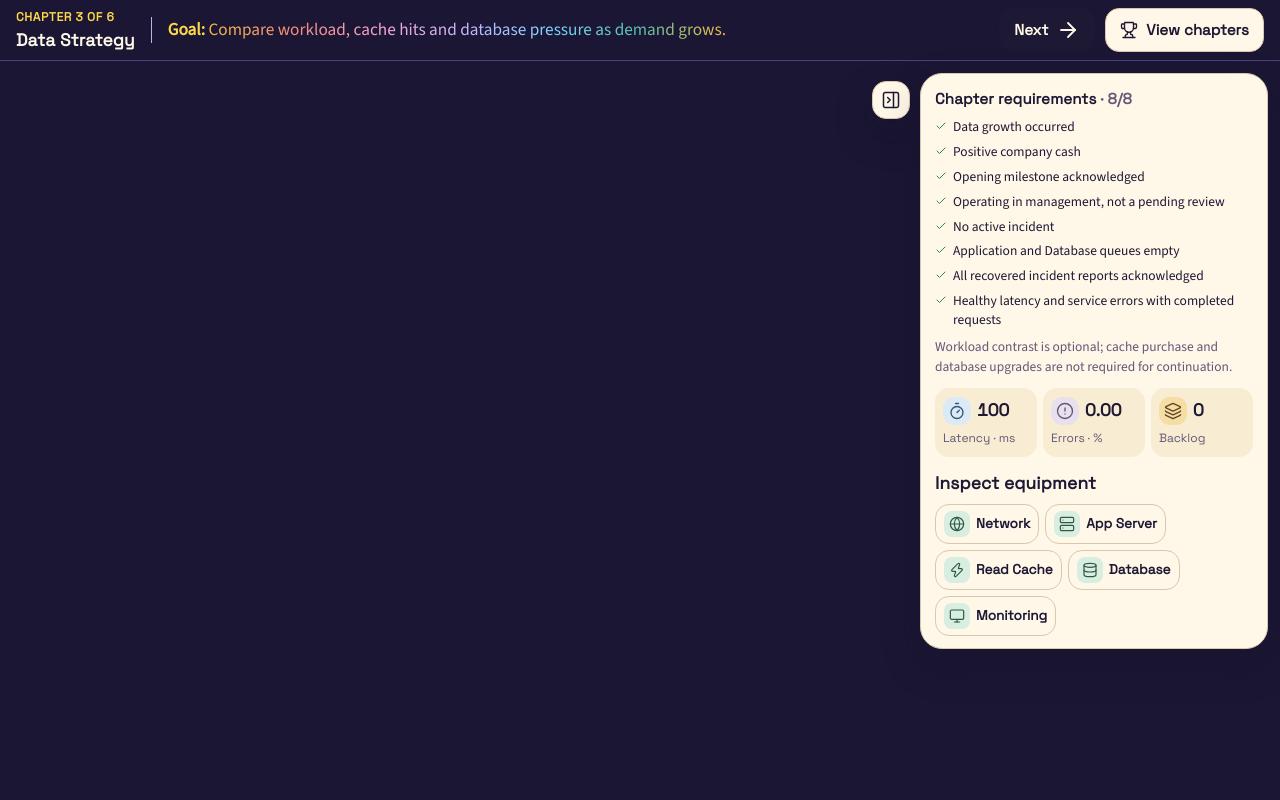
Test: labels the last completed profile separately from an immediate contrast
What coordinates should you click on to do the following:
click the button "Read Cache"
I would click on:
 (998, 570)
Its box is [935,550,1062,590].
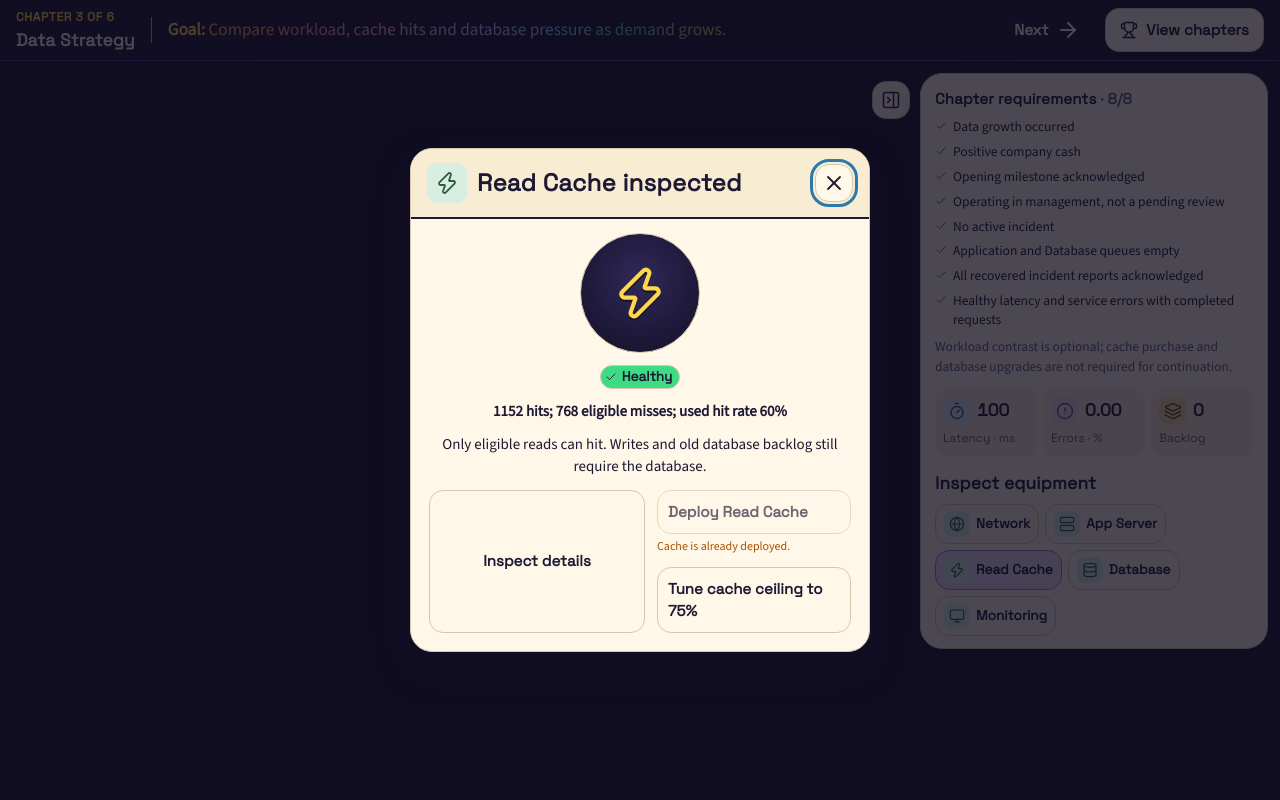
What coordinates should you click on to do the following:
click the button "Inspect details"
I would click on:
 (537, 561)
Its box is [429,490,645,633].
(page scrolled)
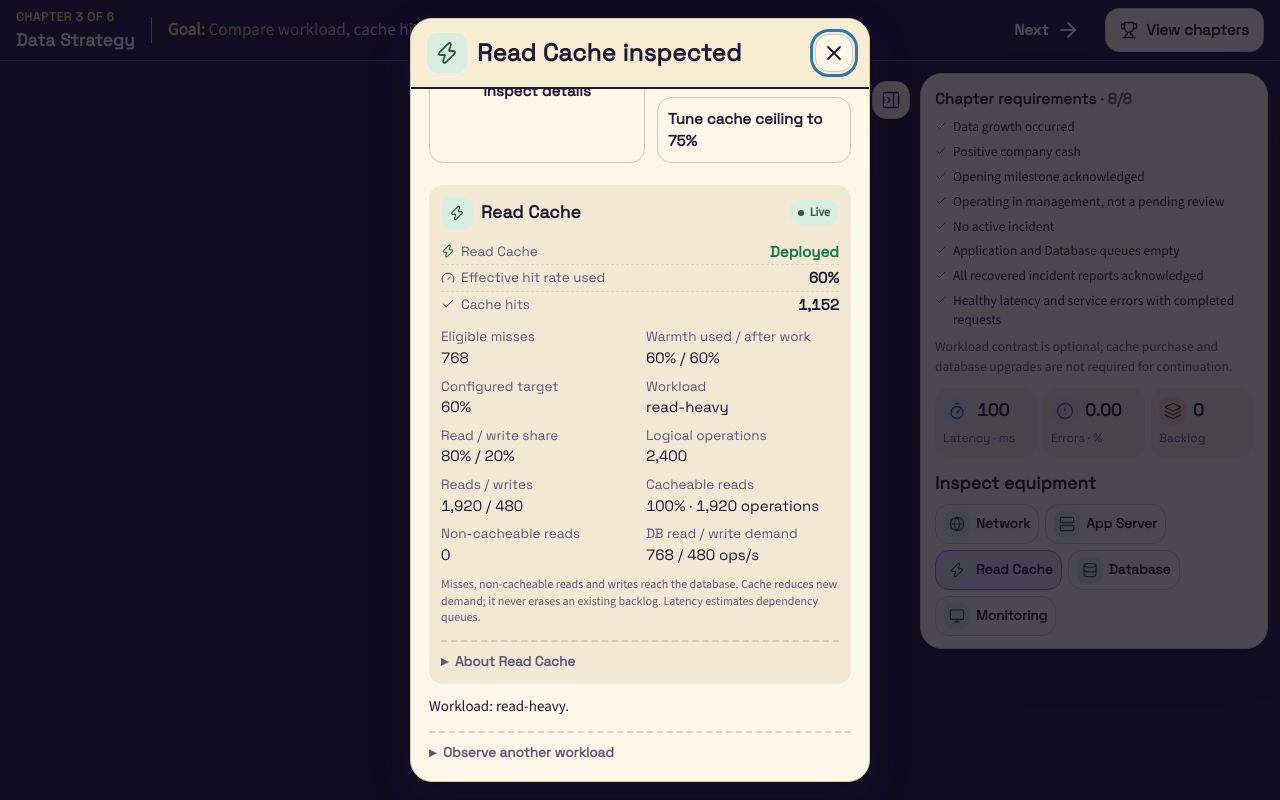
What coordinates should you click on to do the following:
click the heading "Observe another workload"
I would click on:
 (521, 753)
Its box is [429,744,614,763].
(page scrolled)
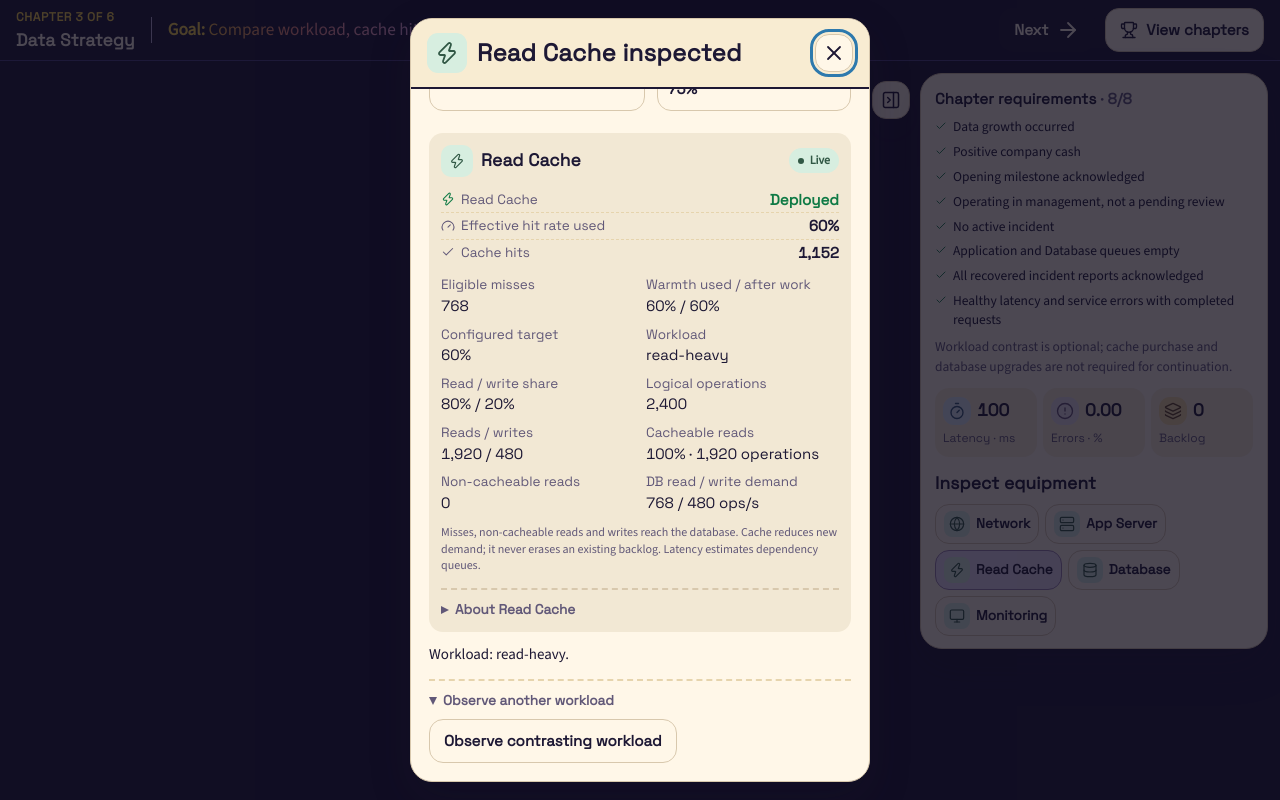
What coordinates should you click on to do the following:
click the button "Observe contrasting workload"
I would click on:
 (553, 741)
Its box is [429,719,677,763].
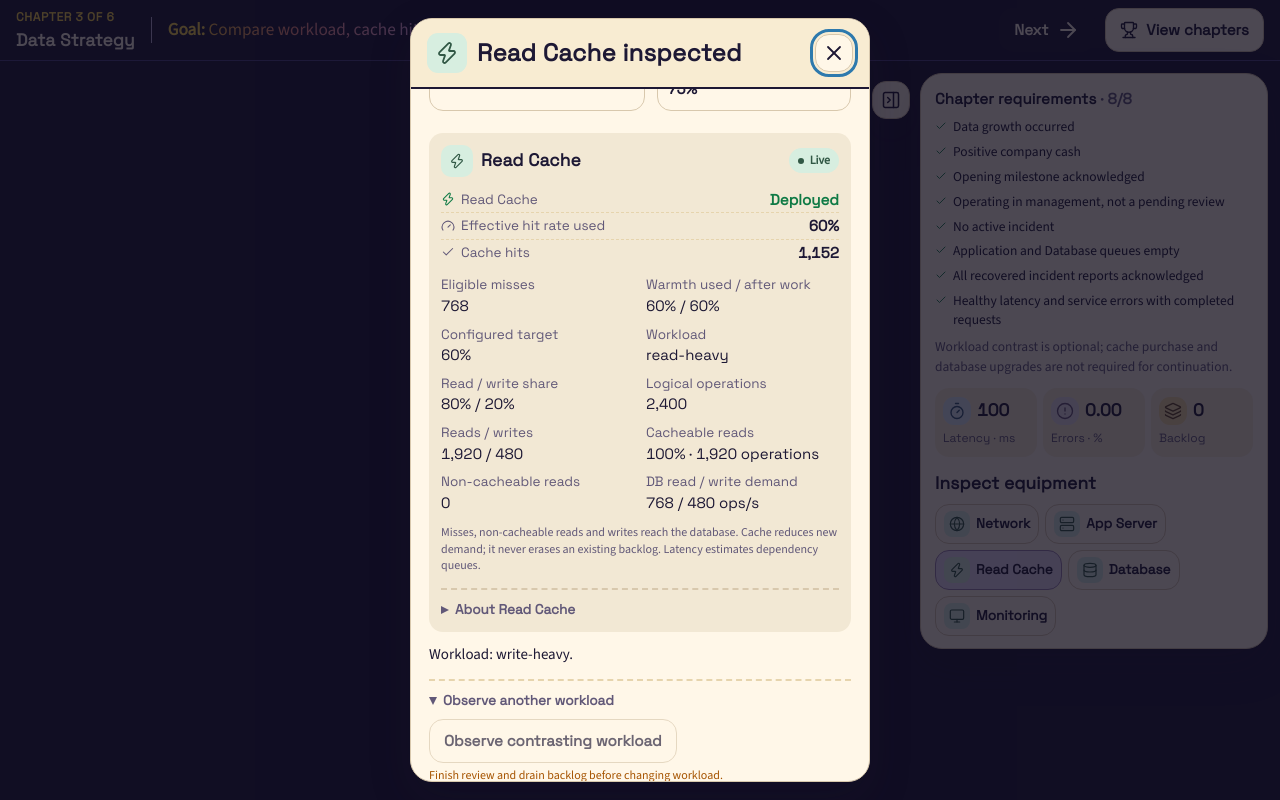
expect the element named "Read Cache readings" shows "read-heavy": met, box [646,345,729,364]
expect the element named "Read Cache readings" shows "Reads / writes": met, box [441,424,533,441]
expect the element named "Data strategy" shows "Workload: write-heavy": met, box [429,644,851,781]
